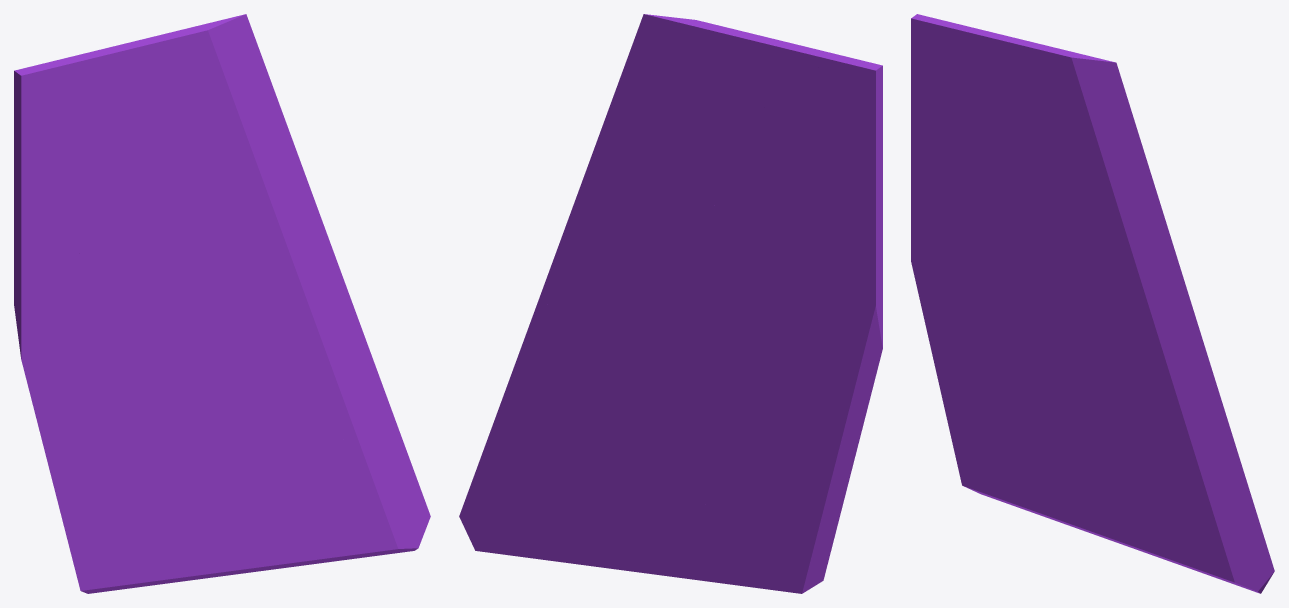
File: Glass_83_2_2_chunks.fbx
3 views of the same model, side by side, from view 1: azimuth 30°, elevation 25°; view 2: azimuth 150°, elevation 25°; view 3: azimuth 330°, elevation 25° (orthographic). The views are drawn at different scales.
Visible parts, largest first — view 1: Glass_83_2_2_10, Glass_83_2_2_9, Glass_83_2_2_6, Glass_83_2_2_4, Glass_83_2_2_8, Glass_83_2_2_24, Glass_83_2_2_27, Glass_83_2_2_25, Glass_83_2_2_20, Glass_83_2_2_13, Glass_83_2_2_1, Glass_83_2_2_26 (+15 smaller); view 2: Glass_83_2_2_10, Glass_83_2_2_9, Glass_83_2_2_8, Glass_83_2_2_6, Glass_83_2_2_24, Glass_83_2_2_4, Glass_83_2_2_13, Glass_83_2_2_23, Glass_83_2_2_27, Glass_83_2_2_26, Glass_83_2_2_20, Glass_83_2_2_25 (+11 smaller); view 3: Glass_83_2_2_10, Glass_83_2_2_9, Glass_83_2_2_6, Glass_83_2_2_8, Glass_83_2_2_4, Glass_83_2_2_24, Glass_83_2_2_27, Glass_83_2_2_25, Glass_83_2_2_20, Glass_83_2_2_13, Glass_83_2_2_19, Glass_83_2_2_1 (+15 smaller).
Part boxes in pixels (x1,y1,x2,y2): Glass_83_2_2_10: (143,146,324,352); Glass_83_2_2_9: (217,228,346,424); Glass_83_2_2_6: (14,268,183,408); Glass_83_2_2_4: (30,393,130,593); Glass_83_2_2_8: (260,446,430,571); Glass_83_2_2_24: (159,14,294,161); Glass_83_2_2_27: (53,23,222,132); Glass_83_2_2_25: (118,126,275,219); Glass_83_2_2_20: (14,74,124,241); Glass_83_2_2_13: (124,430,185,588); Glass_83_2_2_1: (212,436,297,577); Glass_83_2_2_26: (14,59,141,180); Glass_83_2_2_10: (565,146,763,345); Glass_83_2_2_9: (543,228,697,443); Glass_83_2_2_8: (459,433,660,571); Glass_83_2_2_6: (707,267,882,416); Glass_83_2_2_24: (595,14,752,164); Glass_83_2_2_4: (766,383,873,593); Glass_83_2_2_13: (698,425,772,589); Glass_83_2_2_23: (803,141,882,286); Glass_83_2_2_27: (676,17,849,115); Glass_83_2_2_26: (750,57,882,174); Glass_83_2_2_20: (786,74,882,215); Glass_83_2_2_25: (633,135,769,212); Glass_83_2_2_10: (1016,196,1183,329); Glass_83_2_2_9: (1079,279,1202,437); Glass_83_2_2_6: (911,192,1050,331); Glass_83_2_2_8: (1124,458,1274,593); Glass_83_2_2_4: (918,295,1010,504); Glass_83_2_2_24: (1029,54,1157,200); Glass_83_2_2_27: (938,23,1089,118); Glass_83_2_2_25: (994,118,1134,204); Glass_83_2_2_20: (911,30,999,189); Glass_83_2_2_13: (999,387,1055,520); Glass_83_2_2_19: (1179,340,1247,483); Glass_83_2_2_1: (1082,424,1148,551).
Bounding box in the file's own units: 931 × 1234 × 27.2.
